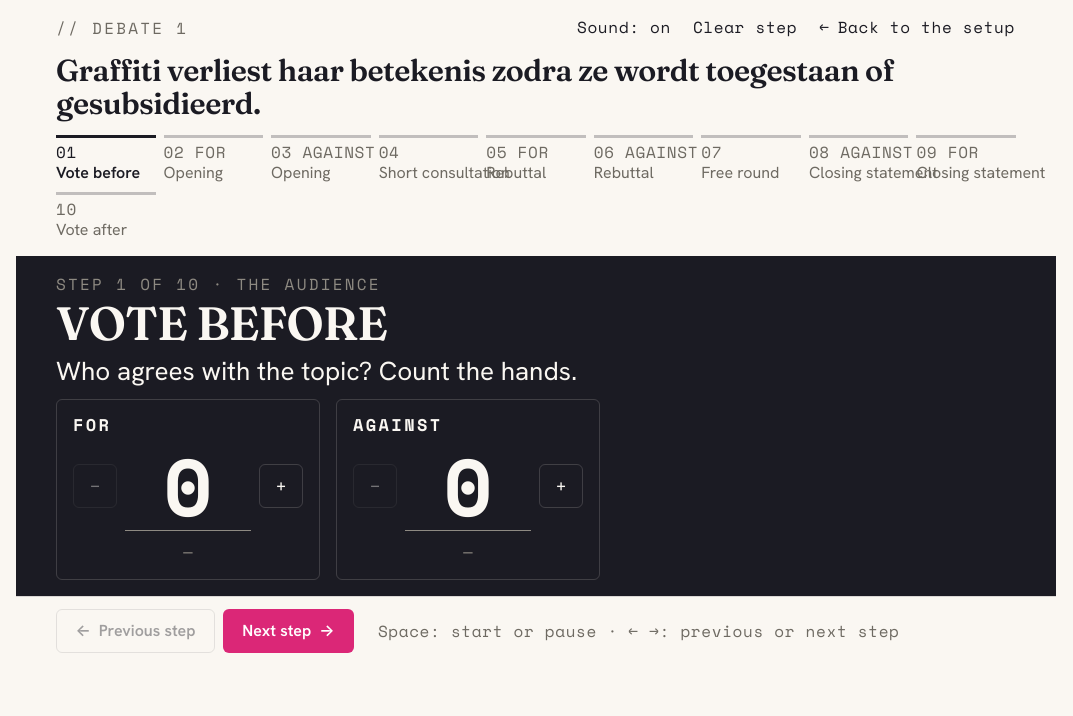
Test: the debate screen › shows the topic, every step with the current one marked, and the step on the stage
The width and height of the screenshot is (1073, 716).
Expected: the 1st heading reads "Graffiti verliest haar betekenis zodra ze wordt toegestaan of gesubsidieerd.", [56,51,894,122]
Expected: the text "// Debate 1" is shown, [56,16,188,40]
Click the button with aria-label "Step 4: Short consultation".
click(428, 160)  # box [379,135,478,184]
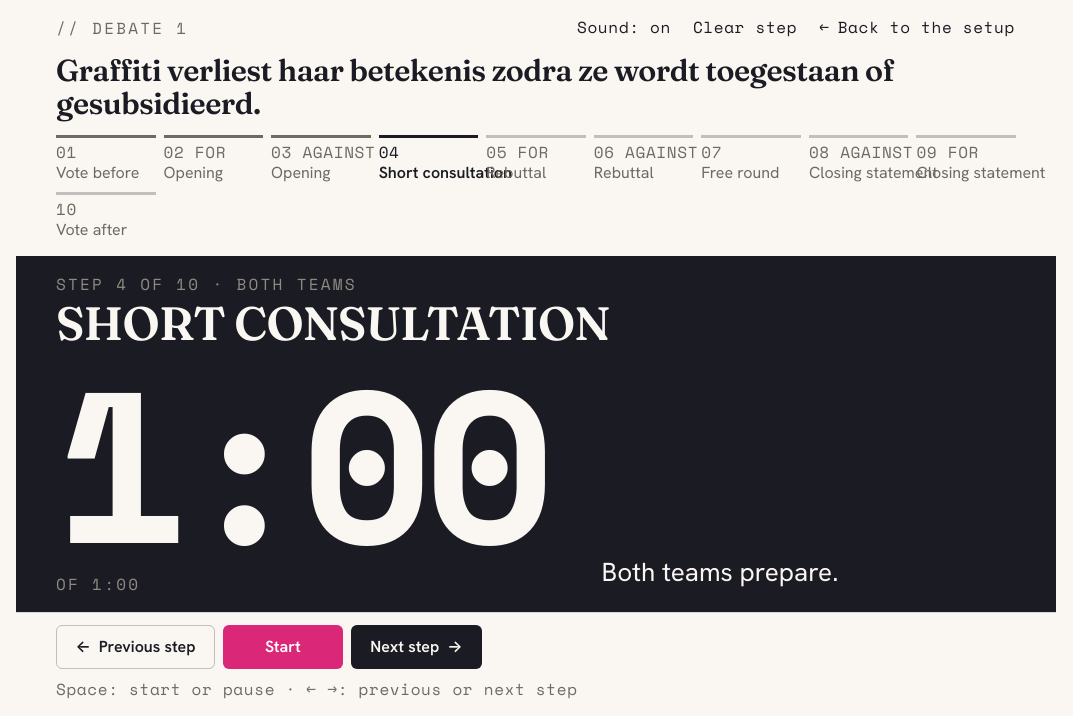
Now the heading "Short consultation" is shown, box [56,294,610,352]
Now the text "Step 4 of 10 · Both teams" is shown, box [56,272,357,296]
Now the text "Both teams prepare." is shown, box [602,554,838,588]
